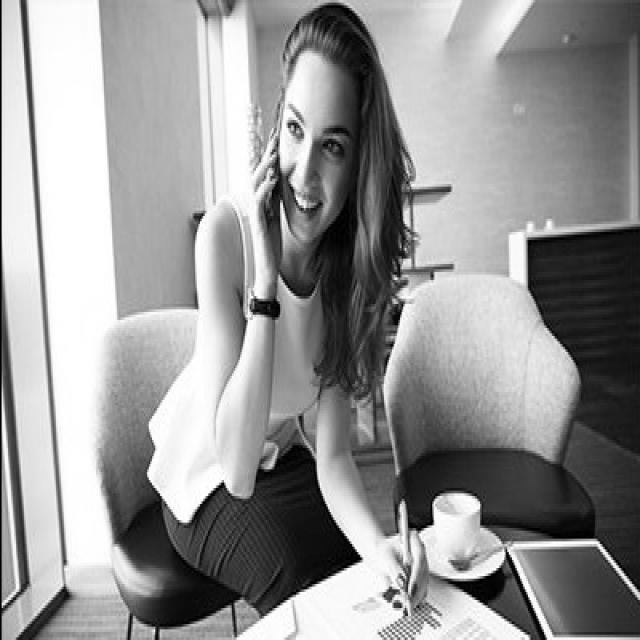phone: (222, 83, 310, 288)
